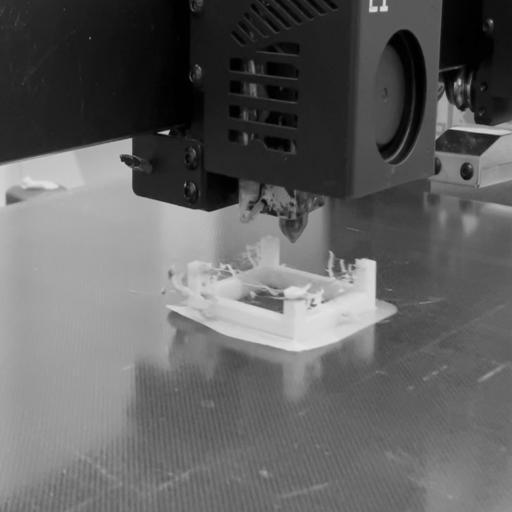spaghetti_and_stringing: (160, 234, 376, 314)
warp: (164, 302, 260, 360)
